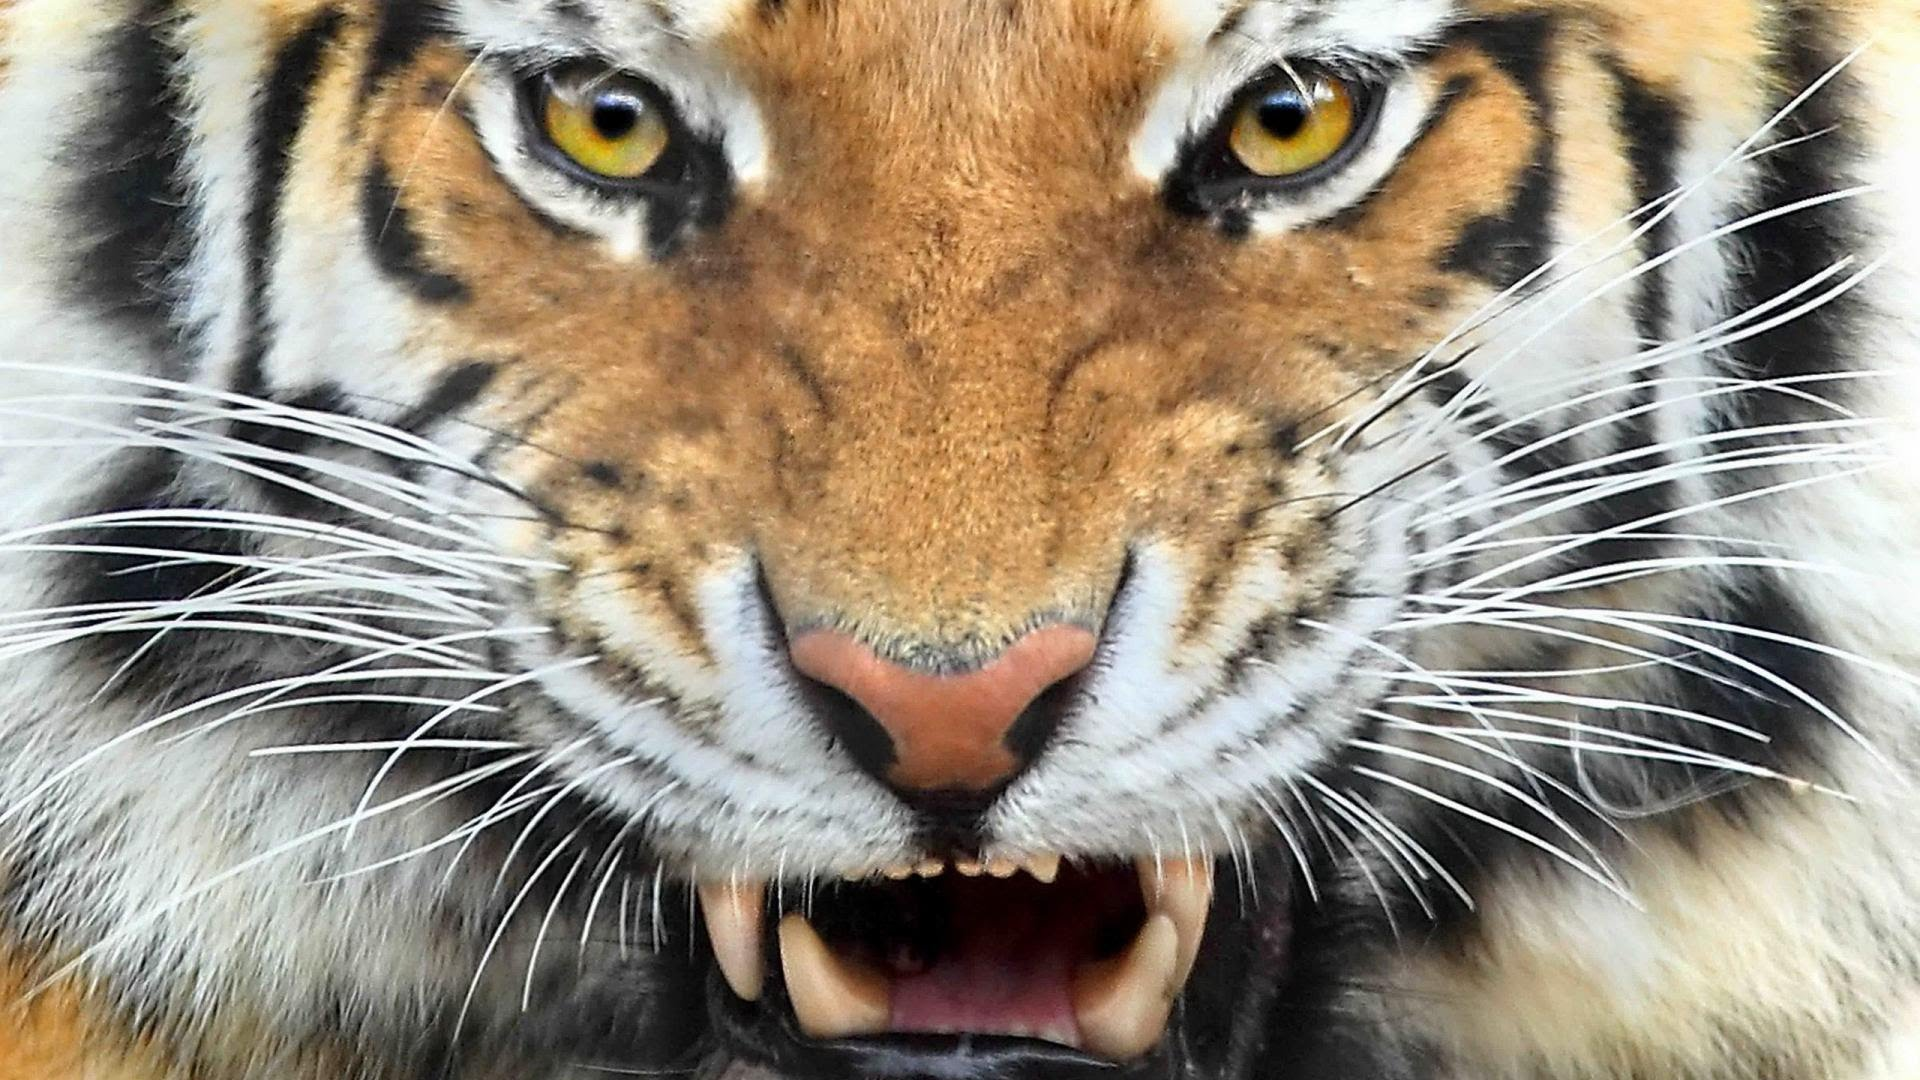Tigrew: (11, 7, 1755, 1080)
